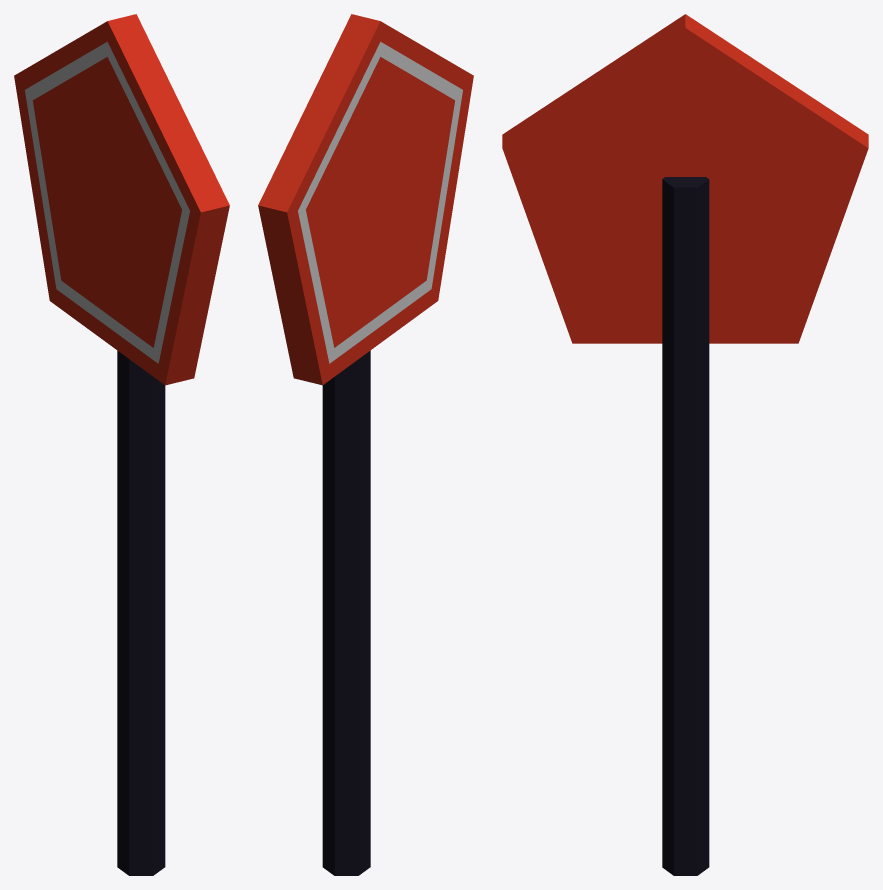
The model's file is Stop_Sign.fbx.
The picture shows the model from 3 angles, left to right: view 1: azimuth 30°, elevation 25°; view 2: azimuth 150°, elevation 25°; view 3: azimuth 270°, elevation 25°; orthographic projection. The views are drawn at different scales.
Parts seen in each view (by area): view 1: Cylinder.038; view 2: Cylinder.038; view 3: Cylinder.038.
Part boxes in pixels (x1,y1,x2,y2): Cylinder.038: (14,14,229,875); Cylinder.038: (258,14,473,875); Cylinder.038: (502,14,868,875).
Size of the model in its own units: 34.72 by 217 by 547.
